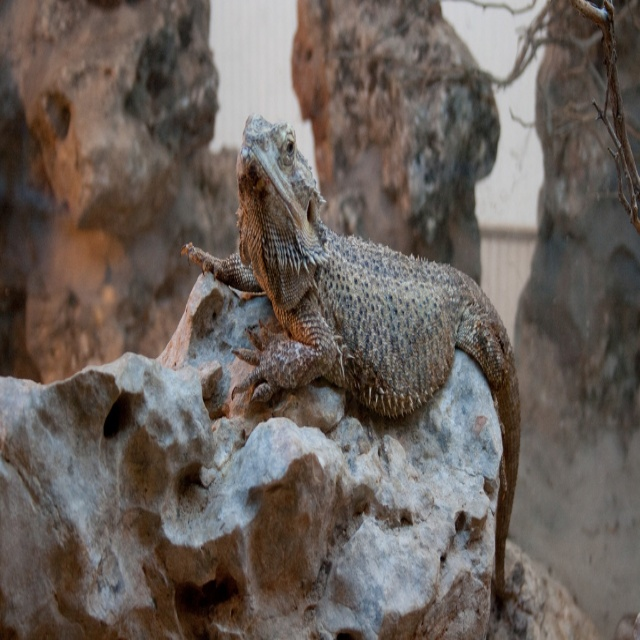Lizard: (183, 118, 518, 607)
